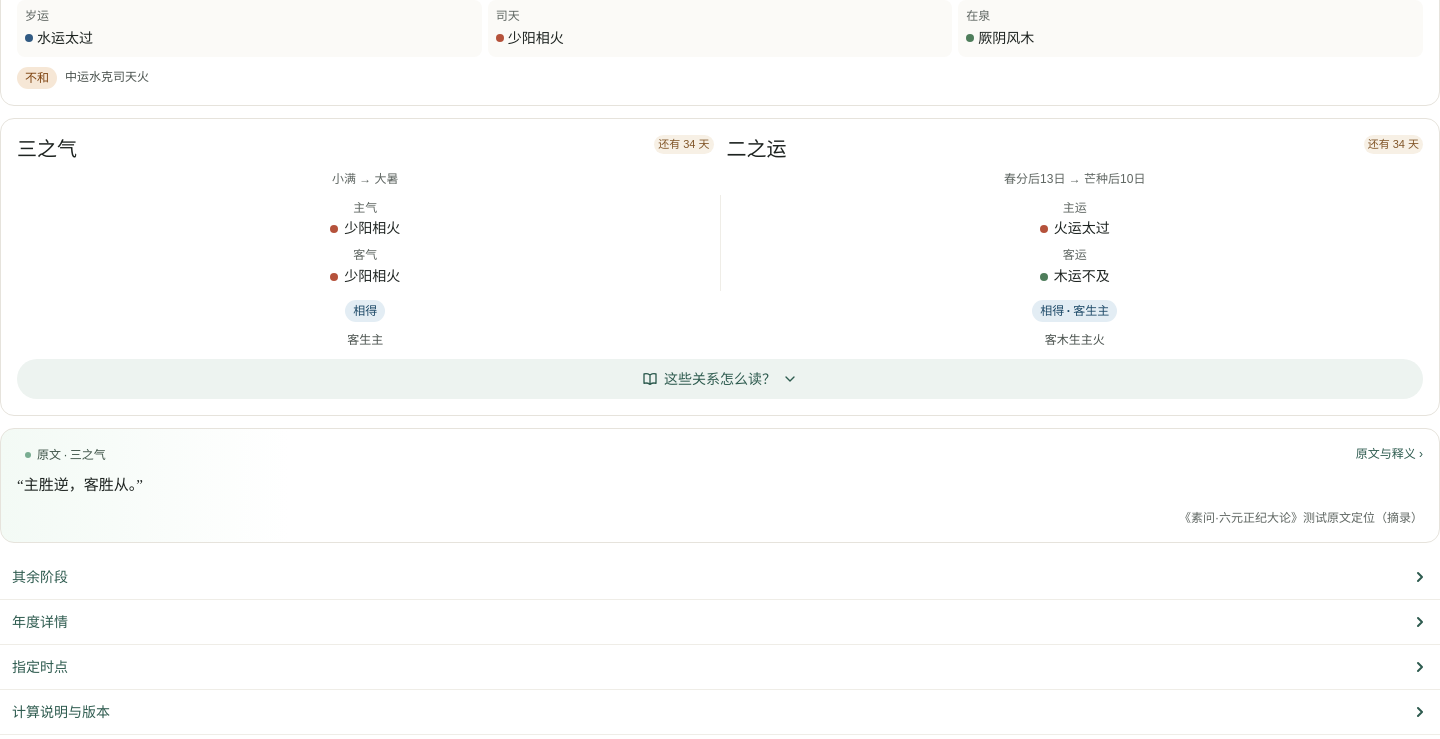
live learning cards replacing demo panels › shows movement boundaries supplied by the API and explains their method on demand
(page scrolled)
Expected: the text "火运太过" is shown, left=1054, top=218, right=1110, bottom=240
Expected: the text "木运不及" is shown, left=1054, top=266, right=1110, bottom=287
What coordinates should you click on to do the following:
click the heading "计算说明与版本"
I would click on:
 (61, 712)
Its box is left=12, top=704, right=1428, bottom=720.
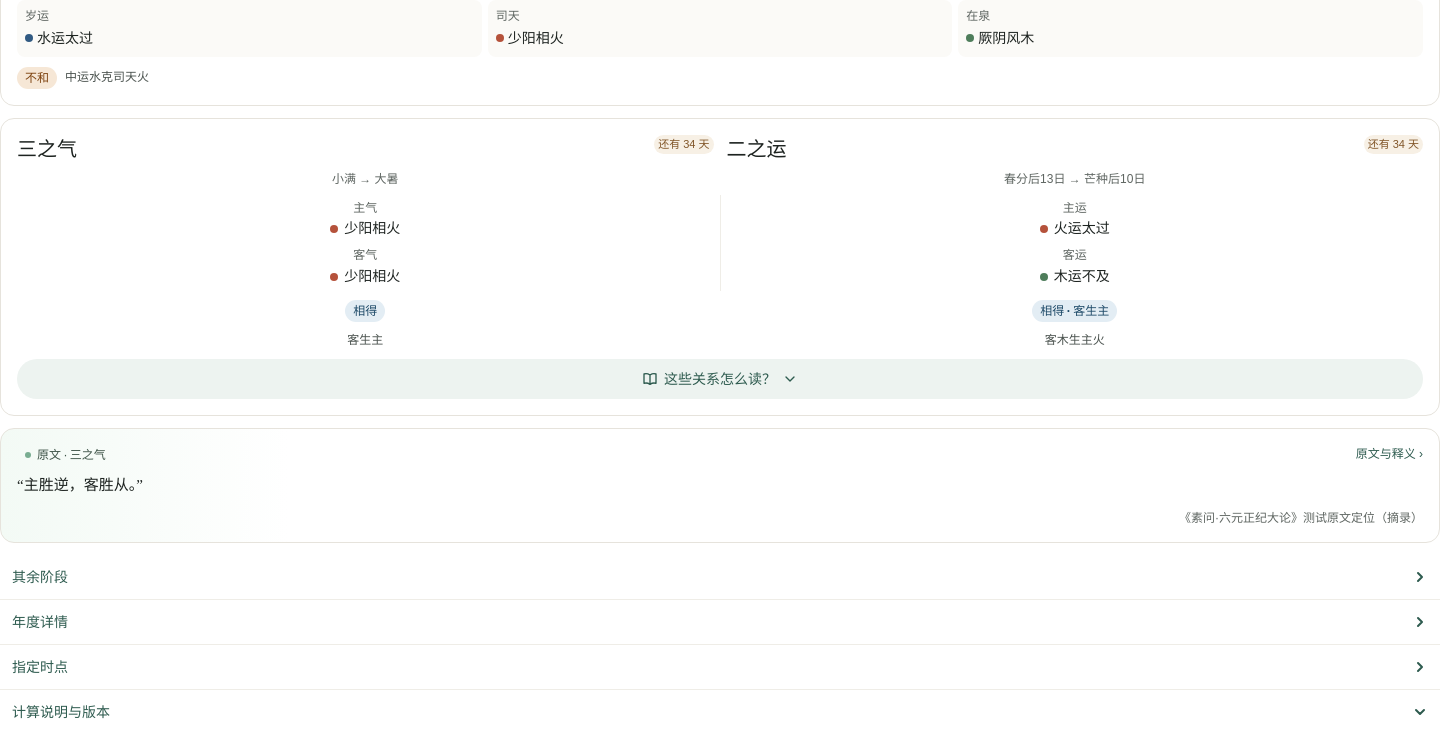
What coordinates should you click on to do the following:
click the heading "这些关系怎么读？"
I would click on:
 (720, 379)
Its box is left=17, top=359, right=1423, bottom=399.
(page scrolled)
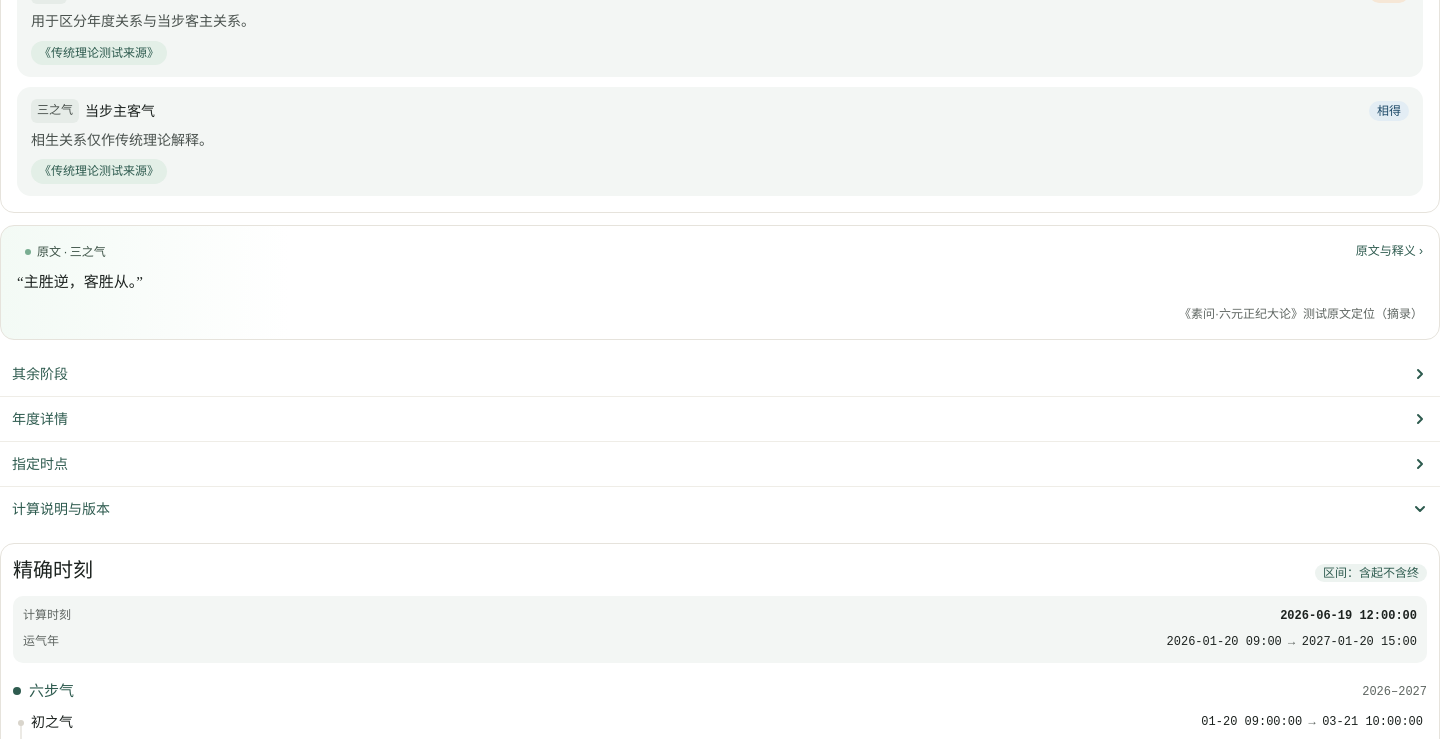
What coordinates should you click on to do the following:
click the heading "其余阶段"
I would click on:
 (40, 374)
Its box is left=12, top=366, right=1428, bottom=382.
(page scrolled)
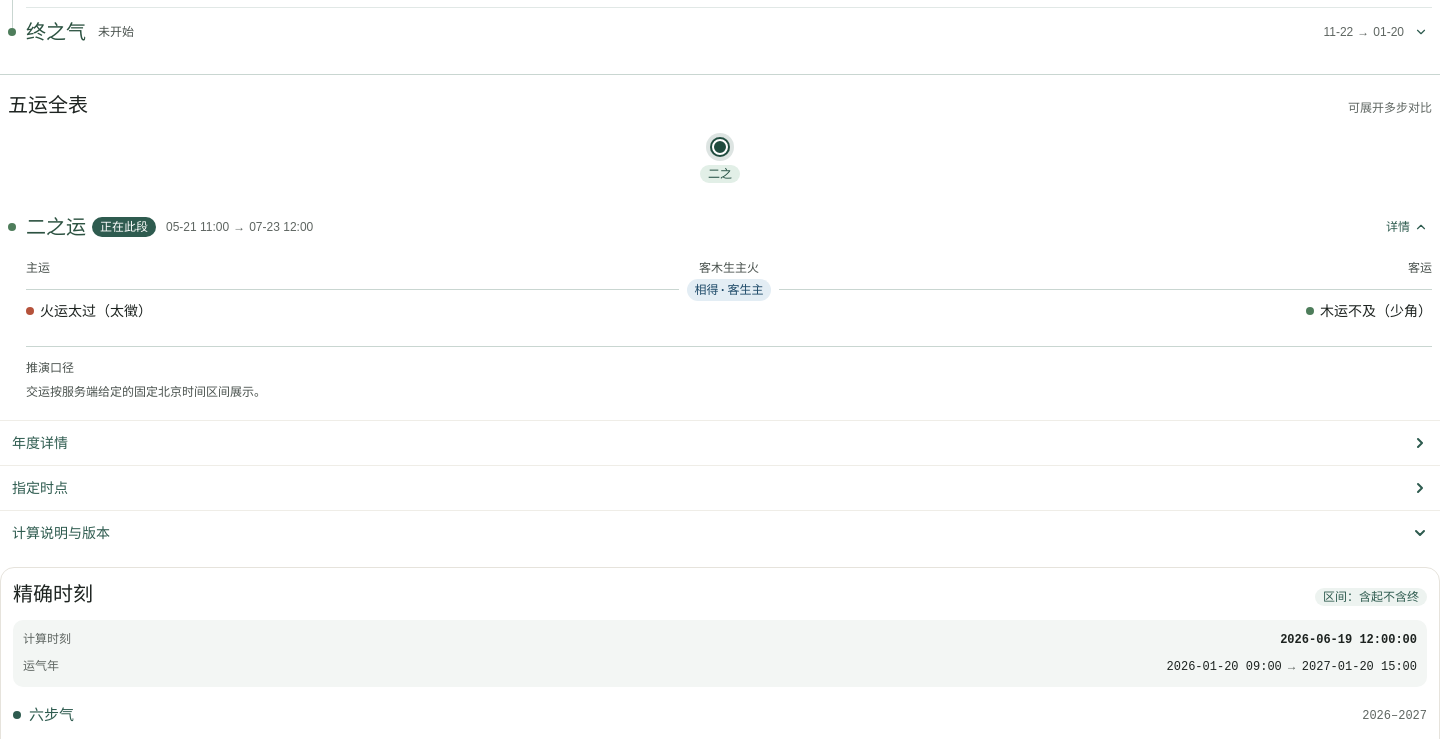
Expected: the element "五运全表" does not show "测试交运口径（教学口径，待专家确认）", left=0, top=74, right=1439, bottom=420
Now the footer shows "交运按服务端给定的固定北京时间区间展示。", box left=26, top=385, right=266, bottom=399
Now the text "交运按服务端给定的固定北京时间区间展示。" is shown once, box left=26, top=385, right=266, bottom=399
